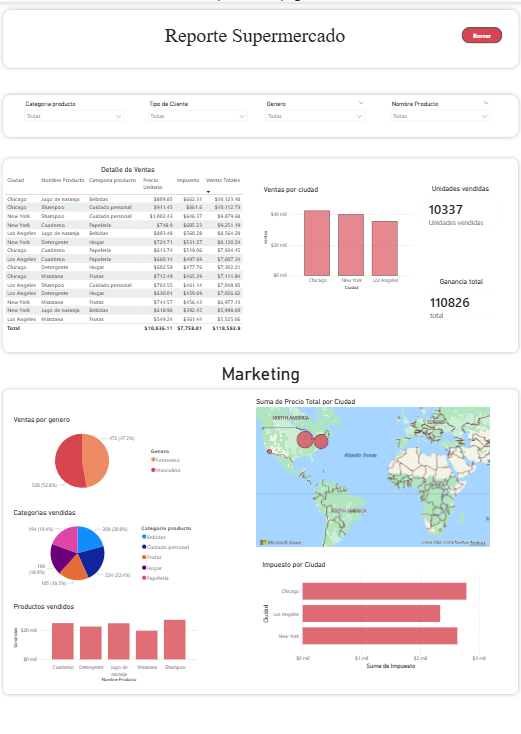

What the dashboard file says about the page in this screenshot:
{"tool":"powerbi","page":{"name":"Reporte","canvas":[1280,1800],"ordinal":0},"visuals":[{"type":"shape","title":"hola","box":[0,10,1280.3,161.4],"z":0},{"type":"shape","title":"hola","box":[0,216.7,1280,123.3],"z":0,"group":"g1"},{"type":"shape","title":"hola","box":[0,374.3,1280,493.3],"z":0,"group":"g2"},{"type":"shape","title":"Marketing","box":[0,882.9,1280,820],"z":0},{"type":"textbox","box":[106.7,50,997.7,99.5],"z":1000},{"type":"slicer","fields":{"Values":["ventas.Categoria producto"]},"box":[51.9,235,263,87.5],"z":1000,"group":"g1"},{"type":"actionButton","box":[1132.3,61.1,100.3,40.4],"z":2000},{"type":"slicer","fields":{"Values":["ventas.Tipo de Cliente"]},"box":[353.2,235,263,87.5],"z":2000,"group":"g1"},{"type":"slicer","fields":{"Values":["ventas.Genero"]},"box":[643,235,263,87.5],"z":3000,"group":"g1"},{"type":"clusteredColumnChart","title":"Ventas por ciudad","fields":{"Category":["ventas.Ciudad"],"Y":["Sum(ventas.Precio Total)"]},"box":[642.6,449.6,374.3,260],"z":3000,"group":"g3"},{"type":"group","id":"g1","title":"Grupo 3","box":[0,216.7,1280,123.3],"z":4000},{"type":"slicer","fields":{"Values":["ventas.Nombre Producto"]},"box":[948.1,235,263,87.5],"z":4000,"group":"g1"},{"type":"tableEx","title":"Detalle de Ventas","fields":{"Values":["ventas.Ciudad","ventas.Nombre Producto","ventas.Categoria producto","Sum(ventas.Precio Unitario)","Sum(ventas.Impuesto)","Sum(ventas.Precio Total)"]},"box":[10.6,401,611.4,435.7],"z":4000,"group":"g3"},{"type":"group","id":"g2","title":"Grupo 1","box":[0,374.3,1280,493.3],"z":5000},{"type":"cardVisual","title":"Unidades vendidas","fields":{"Data":["ventas.Unidades vendidas"]},"box":[1021.2,446.7,214.3,121.4],"z":5000,"group":"g3"},{"type":"group","id":"g3","title":"Grupo 2","box":[10.6,401,1224.8,435.7],"z":5001,"group":"g2"},{"type":"cardVisual","title":"Ganancia total","fields":{"Data":["ventas.total"]},"box":[1022.9,672.9,212.9,121.4],"z":5500},{"type":"pieChart","title":"Ventas por genero","fields":{"Category":["ventas.Genero"],"Y":["CountNonNull(ventas.Cantidad)"]},"box":[31.4,1012.9,428.6,201.4],"z":5501},{"type":"pieChart","title":"Categorias vendidas","fields":{"Category":["ventas.Categoria producto"],"Y":["CountNonNull(ventas.Cantidad)"]},"box":[31.4,1237.1,460,201.4],"z":5502},{"type":"azureMap","fields":{"Category":["ventas.Ciudad"],"Size":["Sum(ventas.Precio Total)"]},"box":[622.9,965.7,581.4,371.4],"z":5504},{"type":"clusteredColumnChart","title":"Productos vendidos","fields":{"Category":["ventas.Nombre Producto"],"Y":["Sum(ventas.Precio Total)"]},"box":[31.4,1467.1,460,201.4],"z":5505},{"type":"clusteredBarChart","title":"Impuesto por Ciudad","fields":{"Category":["ventas.Ciudad"],"Y":["Sum(ventas.Impuesto)"]},"box":[640,1367.1,557.1,271.4],"z":5506}]}

Visuals, with their boxes in screenshot pixels (x1, y1, x2, y2), scaled from the page's 1280x1800 canvas onto the 521x734 screenshot:
"hola" shape: x1=0 y1=4 x2=520 y2=70
"hola" shape: x1=0 y1=88 x2=520 y2=139
"hola" shape: x1=0 y1=153 x2=520 y2=354
"Marketing" shape: x1=0 y1=360 x2=520 y2=694
textbox: x1=43 y1=20 x2=450 y2=61
slicer - ventas.Categoria producto: x1=21 y1=96 x2=128 y2=132
actionButton: x1=461 y1=25 x2=502 y2=41
slicer - ventas.Tipo de Cliente: x1=144 y1=96 x2=251 y2=132
slicer - ventas.Genero: x1=262 y1=96 x2=369 y2=132
"Ventas por ciudad" clusteredColumnChart: x1=262 y1=183 x2=414 y2=289
"Grupo 3" group: x1=0 y1=88 x2=520 y2=139
slicer - ventas.Nombre Producto: x1=386 y1=96 x2=493 y2=132
"Detalle de Ventas" tableEx: x1=4 y1=164 x2=253 y2=341
"Grupo 1" group: x1=0 y1=153 x2=520 y2=354
"Unidades vendidas" cardVisual: x1=416 y1=182 x2=503 y2=232
"Grupo 2" group: x1=4 y1=164 x2=503 y2=341
"Ganancia total" cardVisual: x1=416 y1=274 x2=503 y2=324
"Ventas por genero" pieChart: x1=13 y1=413 x2=187 y2=495
"Categorias vendidas" pieChart: x1=13 y1=504 x2=200 y2=587
azureMap - ventas.Ciudad x Sum(ventas.Precio Total): x1=254 y1=394 x2=490 y2=545
"Productos vendidos" clusteredColumnChart: x1=13 y1=598 x2=200 y2=680
"Impuesto por Ciudad" clusteredBarChart: x1=260 y1=557 x2=487 y2=668
